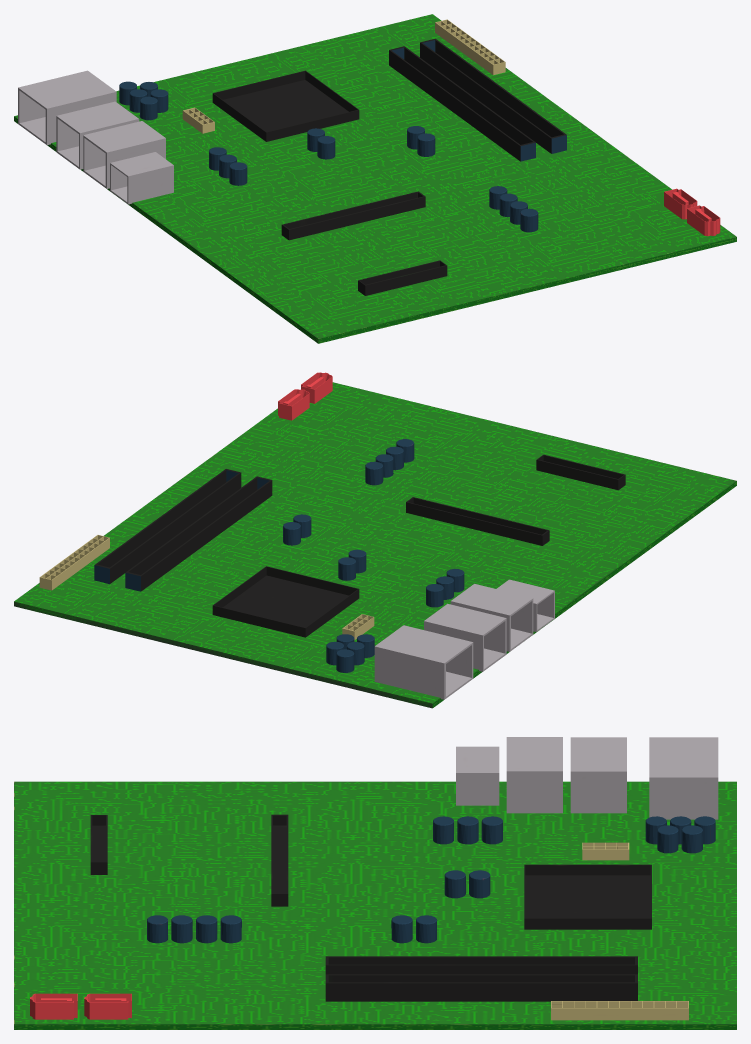
The model's file is Motherboard.fbx.
3 renders of one model, top to bottom at view 1: azimuth 30°, elevation 25°; view 2: azimuth 150°, elevation 25°; view 3: azimuth 270°, elevation 25°, orthographic. The views are drawn at different scales.
Visible parts, largest first — view 1: MotherBoard; view 2: MotherBoard; view 3: MotherBoard.
Boxes of the visible parts, left/top/right/bottom form: MotherBoard: left=14, top=14, right=736, bottom=343; MotherBoard: left=14, top=372, right=736, bottom=708; MotherBoard: left=14, top=737, right=736, bottom=1029.
Bounding box in the file's own units: 545 × 49.79 × 680.
1 material, 1 textured.
